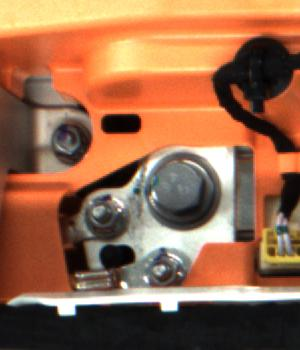nut_b: (148, 153, 222, 218)
